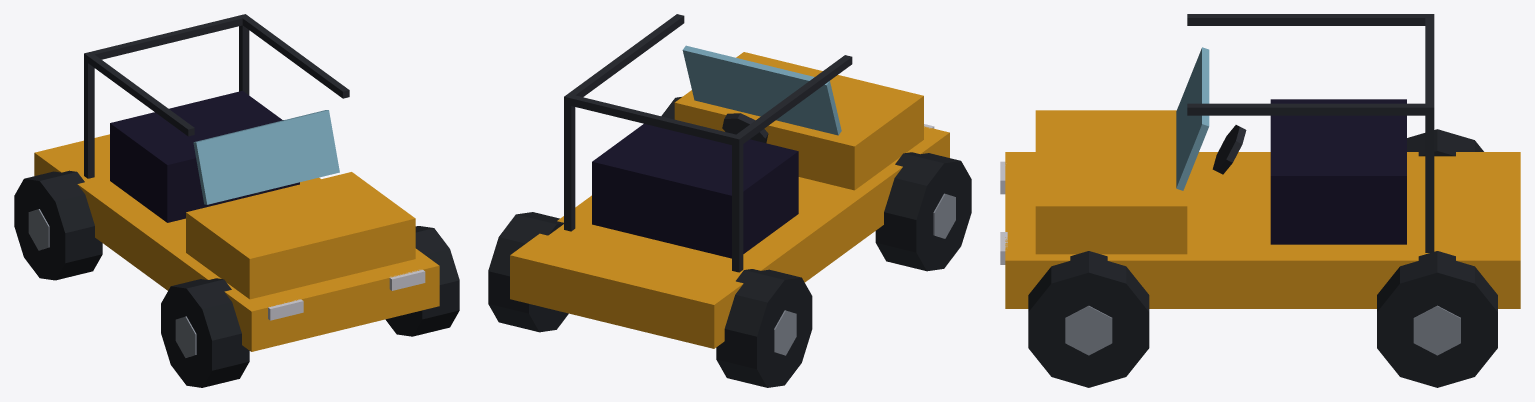
File: coast_buggy.glb
3 views of the same model, side by side, from view 1: azimuth 30°, elevation 25°; view 2: azimuth 150°, elevation 25°; view 3: azimuth 270°, elevation 25° (orthographic). The views are drawn at different scales.
Visible parts, largest first — view 1: chassis, wheel_RL, wheel_FL, wheel_FR; view 2: chassis, wheel_RL, wheel_FL, wheel_RR; view 3: chassis, wheel_FR, wheel_RR, wheel_RL.
Boxes of the visible parts, x1,y1,x2,y2 form: chassis: [34, 14, 439, 351]; wheel_RL: [14, 170, 102, 280]; wheel_FL: [161, 278, 249, 387]; wheel_FR: [385, 226, 459, 336]; chassis: [510, 14, 949, 348]; wheel_RL: [716, 269, 812, 387]; wheel_FL: [875, 152, 971, 271]; wheel_RR: [488, 212, 568, 332]; chassis: [1000, 14, 1520, 308]; wheel_FR: [1028, 251, 1149, 387]; wheel_RR: [1377, 251, 1497, 387]; wheel_RL: [1407, 129, 1483, 156].
Size of the model in its own units: 2.26 by 1.86 by 3.44.
